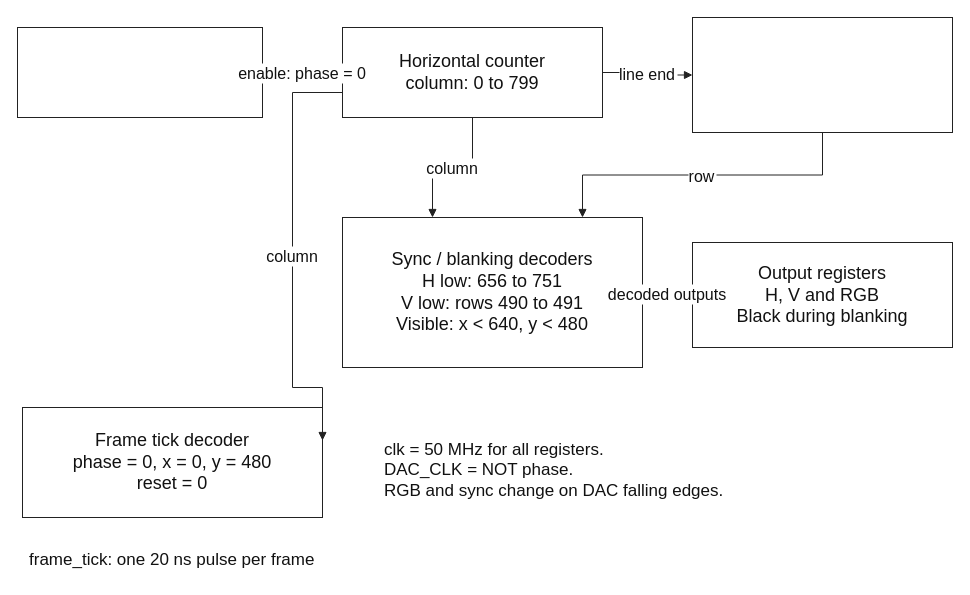
Some shapes in this 970 by 595 pixel diagram are drawn without their labels. The shapes that lost their labels are listed below. From the top down, each one's centre as x and y in pixels, then its label:
(139,72): phase flip-flop Toggle on clk rising edge
(822,74): Vertical counter row: 0 to 524 Advance at column = 799
